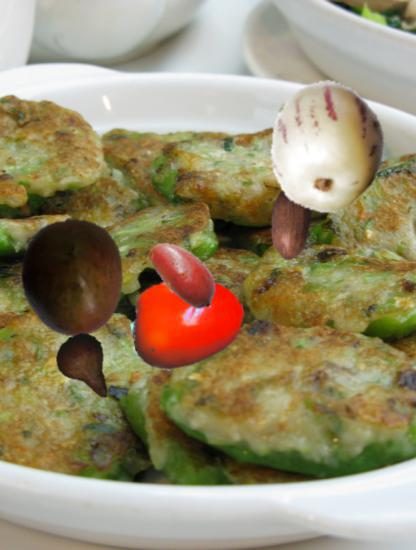Kaki: (131, 265, 245, 379)
Mango: (12, 218, 133, 339)
Nut: (251, 183, 329, 261)
Pear: (52, 333, 122, 403)
Pepino: (262, 85, 389, 212)
Potato: (142, 232, 225, 315)
